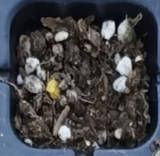pepper seed: (15, 29, 76, 128)
